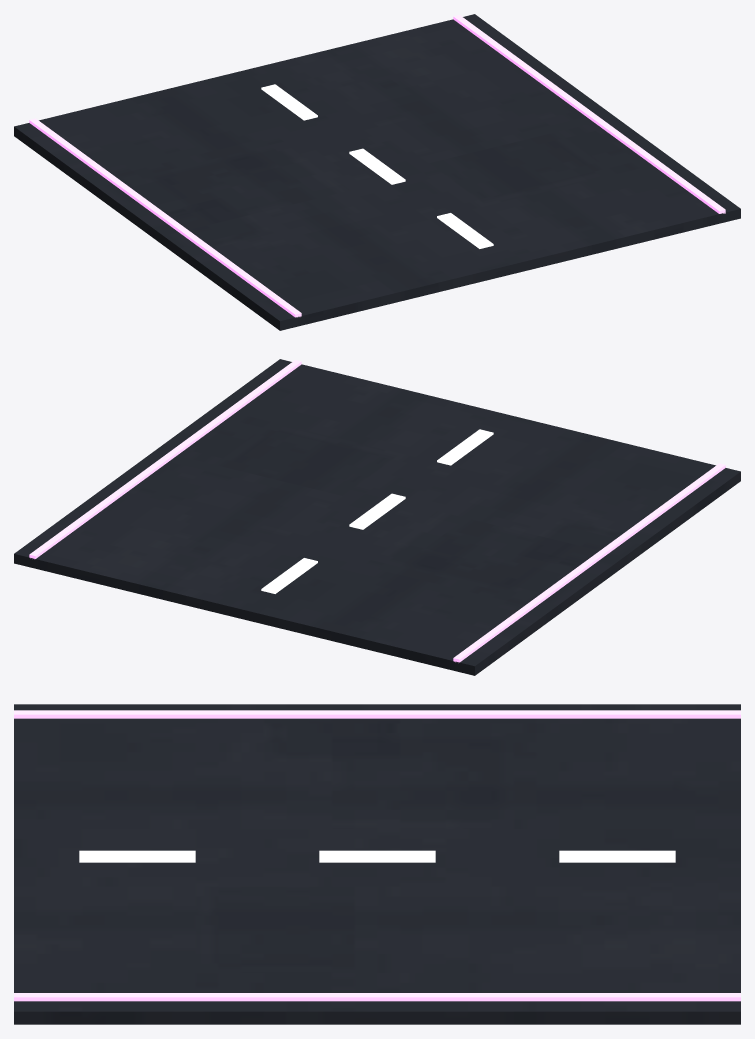
The model's file is decor-road.glb.
3 renders of one model, top to bottom at view 1: azimuth 30°, elevation 25°; view 2: azimuth 150°, elevation 25°; view 3: azimuth 270°, elevation 25°, orthographic. The views are drawn at different scales.
Visible parts, largest first — view 1: DecorRoad; view 2: DecorRoad; view 3: DecorRoad.
Part boxes in pixels (x1=…): DecorRoad: x1=14, y1=14, x2=740, y2=330; DecorRoad: x1=14, y1=359, x2=740, y2=675; DecorRoad: x1=14, y1=704, x2=740, y2=1024.
Bounding box in the file's own units: 1 × 0.026 × 1.
Materials: 3 (1 with a texture image).
